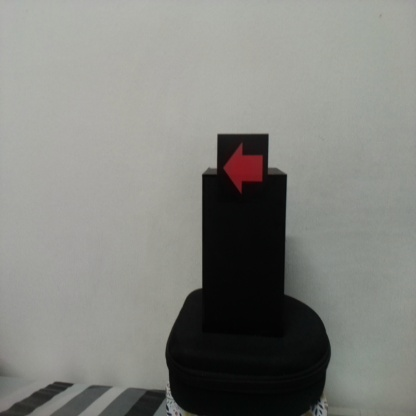id_4: (217, 133, 268, 205)
